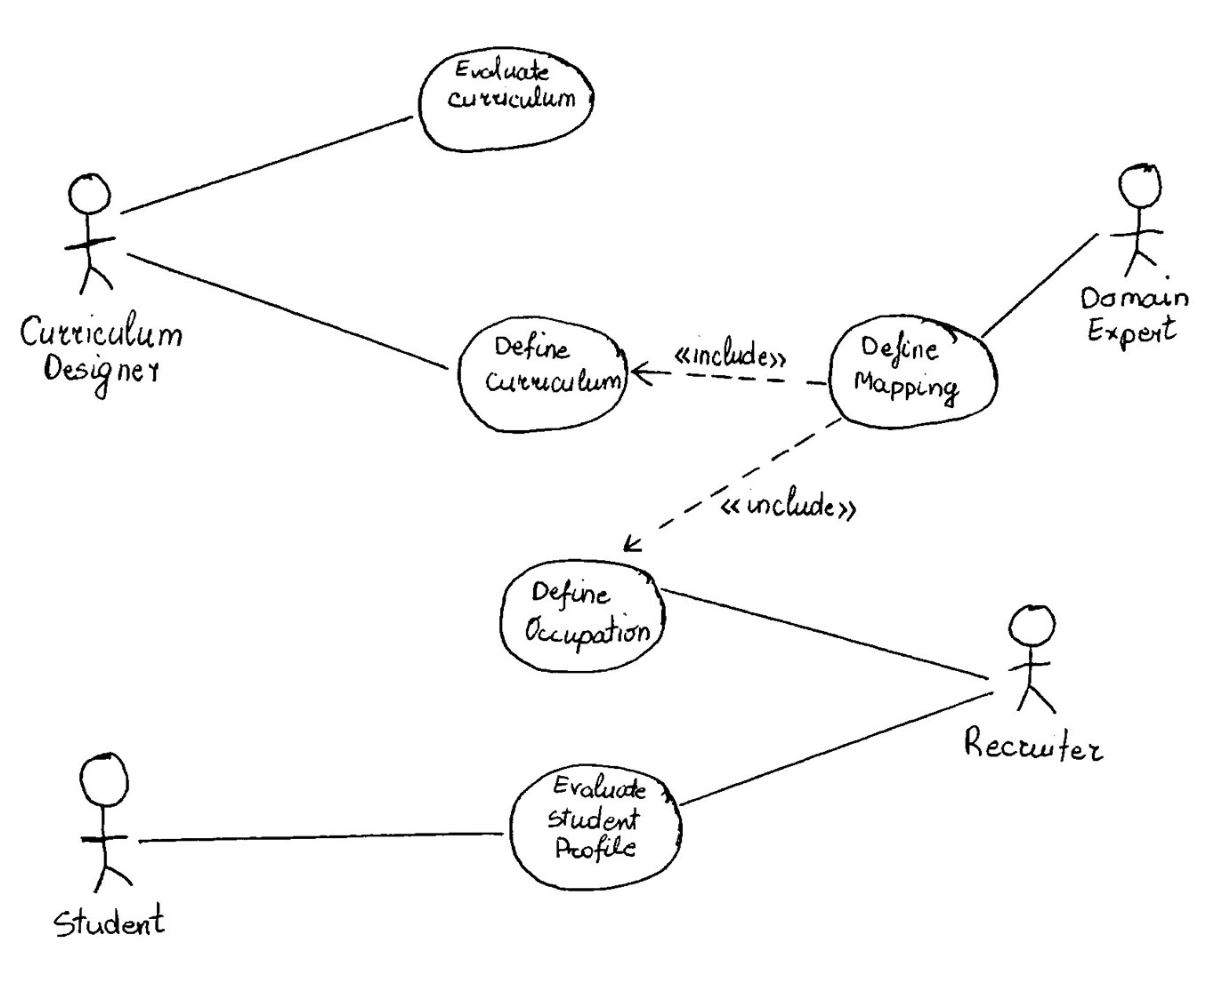actor: (68, 751, 142, 894), (997, 603, 1073, 729), (62, 167, 127, 299), (1111, 156, 1171, 280)
association: (127, 251, 448, 370), (680, 688, 999, 806), (662, 581, 991, 680), (623, 417, 841, 554), (122, 113, 412, 214), (982, 230, 1102, 336), (142, 824, 505, 850), (632, 358, 824, 400)
text: (17, 310, 187, 399), (538, 774, 649, 866), (520, 576, 657, 649), (851, 331, 974, 411), (484, 333, 621, 397), (445, 57, 585, 118), (1076, 284, 1192, 351), (960, 721, 1103, 773), (722, 487, 864, 528), (672, 328, 790, 372), (52, 903, 169, 947)
use_case: (485, 553, 669, 675), (509, 766, 684, 894), (453, 313, 632, 435), (828, 313, 998, 432), (416, 44, 595, 153)
